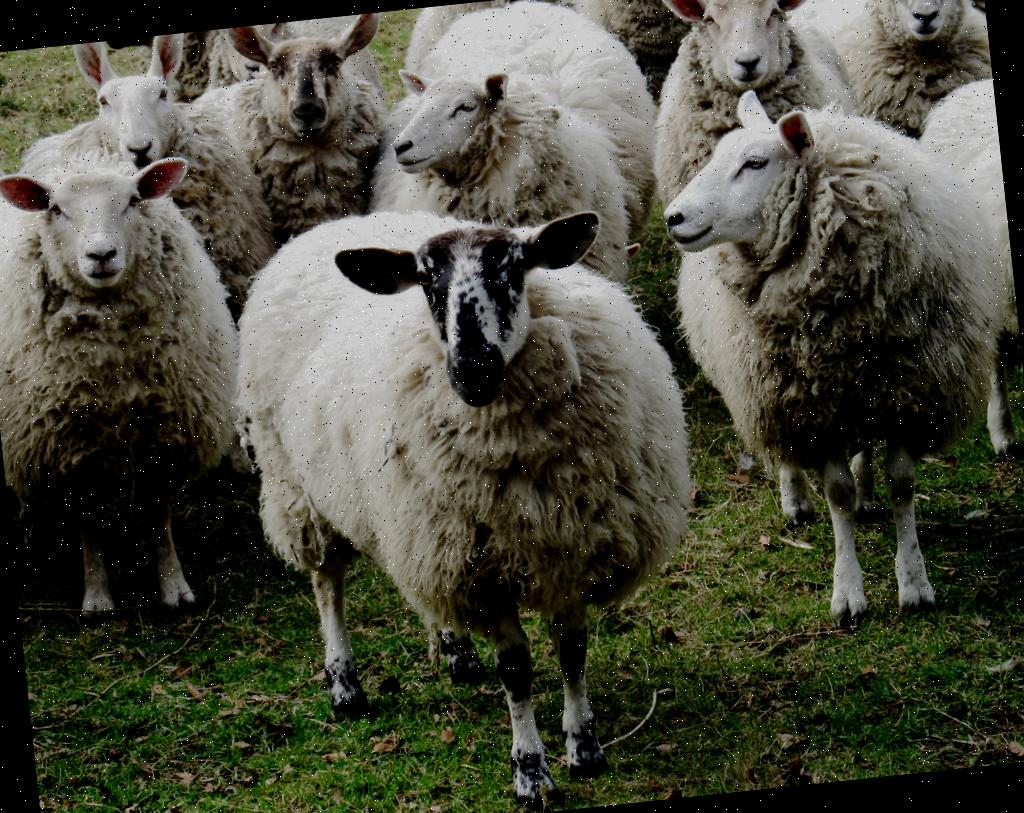Sheep: (210, 171, 734, 813), (644, 66, 1024, 644), (0, 125, 287, 627), (352, 0, 682, 388), (9, 30, 268, 352), (619, 0, 880, 288), (189, 10, 427, 288), (757, 0, 1004, 212)
